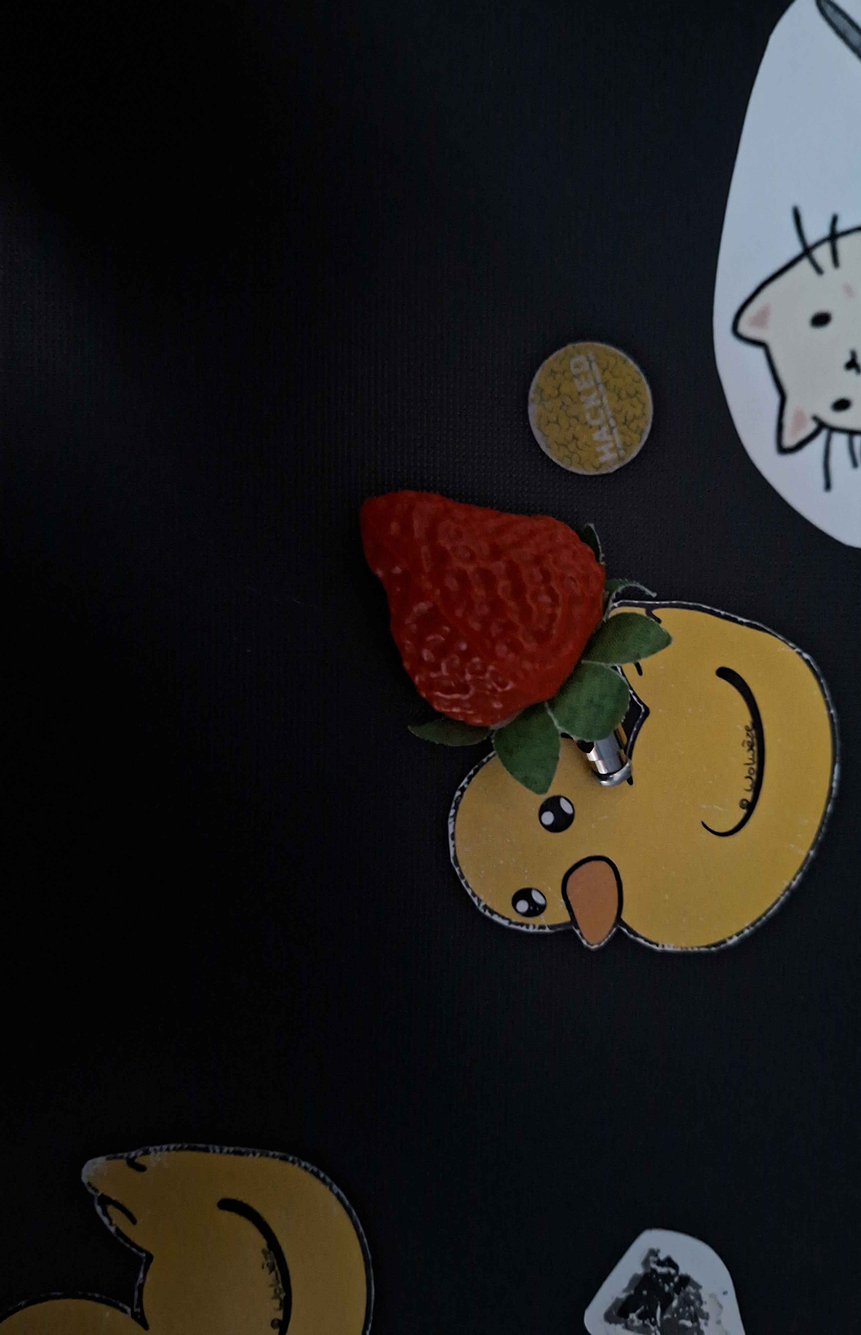Strawberry: (348, 469, 616, 742)
